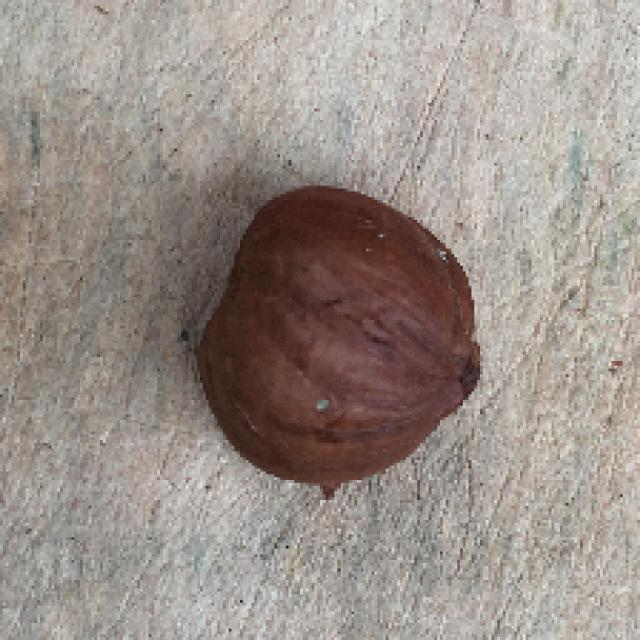hazelnut: (190, 170, 496, 492)
